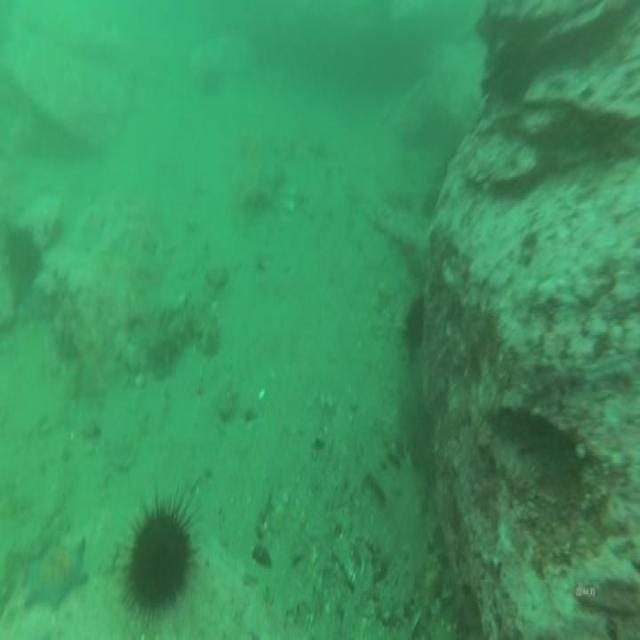echinus: (116, 501, 196, 629), (401, 284, 430, 352)
holothurian: (141, 291, 223, 376)
starfish: (18, 532, 94, 614)
